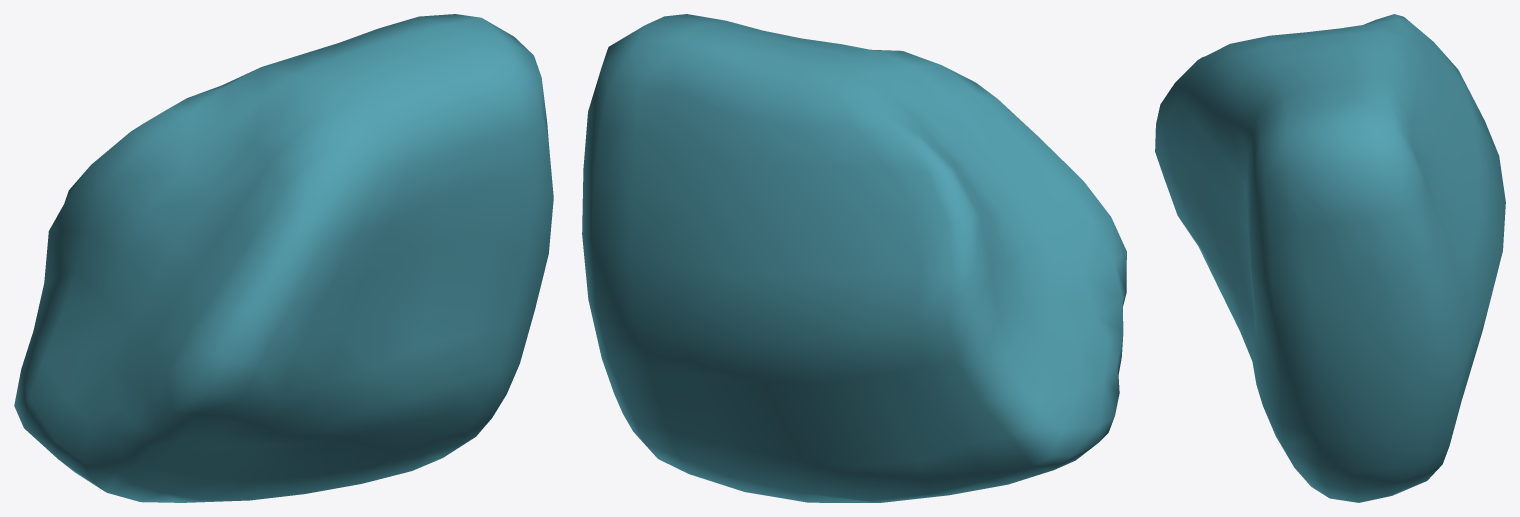
The model's file is VIS_Alpha_Surface_015.dae.
3 renders of one model, left to right at view 1: azimuth 30°, elevation 25°; view 2: azimuth 150°, elevation 25°; view 3: azimuth 270°, elevation 25°, orthographic. The views are drawn at different scales.
Parts seen in each view (by area): view 1: VIS_Alpha_Surface_015; view 2: VIS_Alpha_Surface_015; view 3: VIS_Alpha_Surface_015.
Part boxes in pixels (x1=…): VIS_Alpha_Surface_015: x1=14, y1=14, x2=553, y2=502; VIS_Alpha_Surface_015: x1=582, y1=14, x2=1126, y2=502; VIS_Alpha_Surface_015: x1=1155, y1=14, x2=1505, y2=502.
Size of the model in its own units: 0.116 by 0.0751 by 0.0984.
